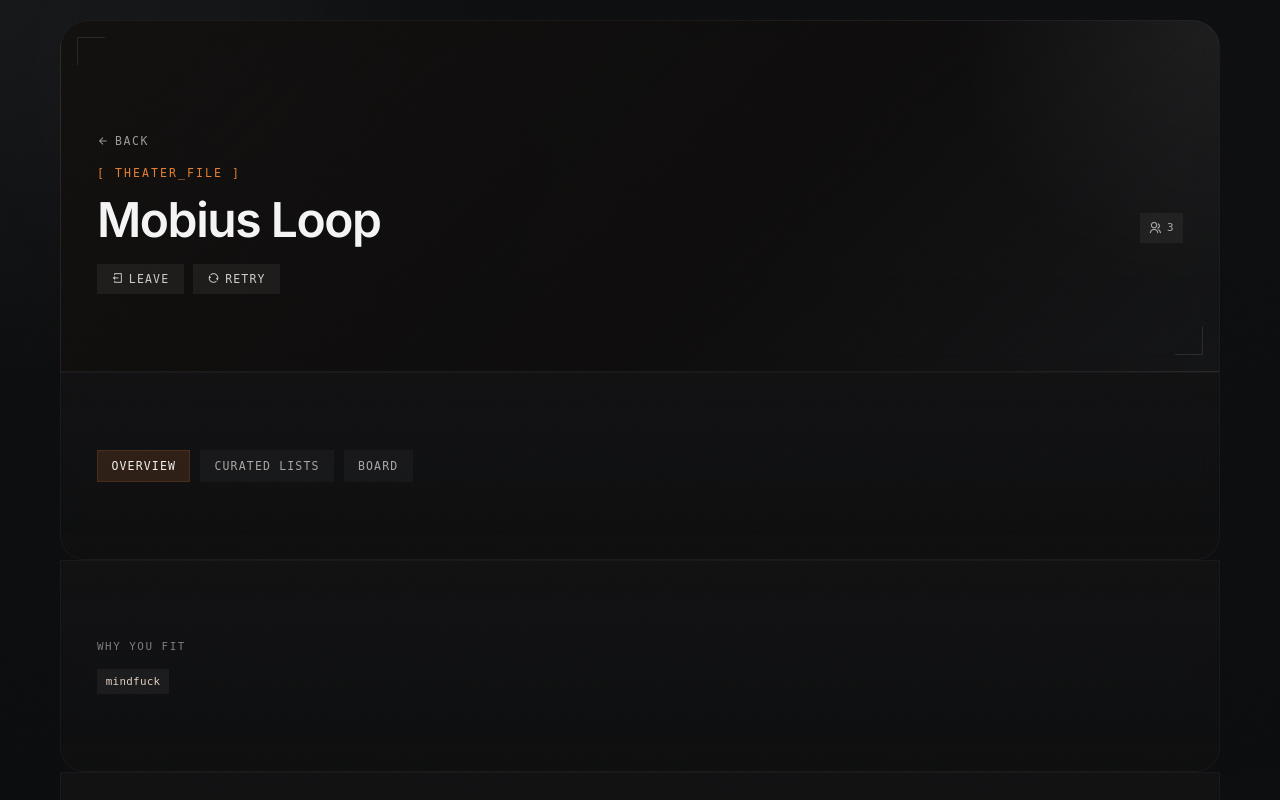
TheaterDetailPage › deletes a list
Click the tab "Curated Lists" at [267, 466], box [200, 450, 334, 482]
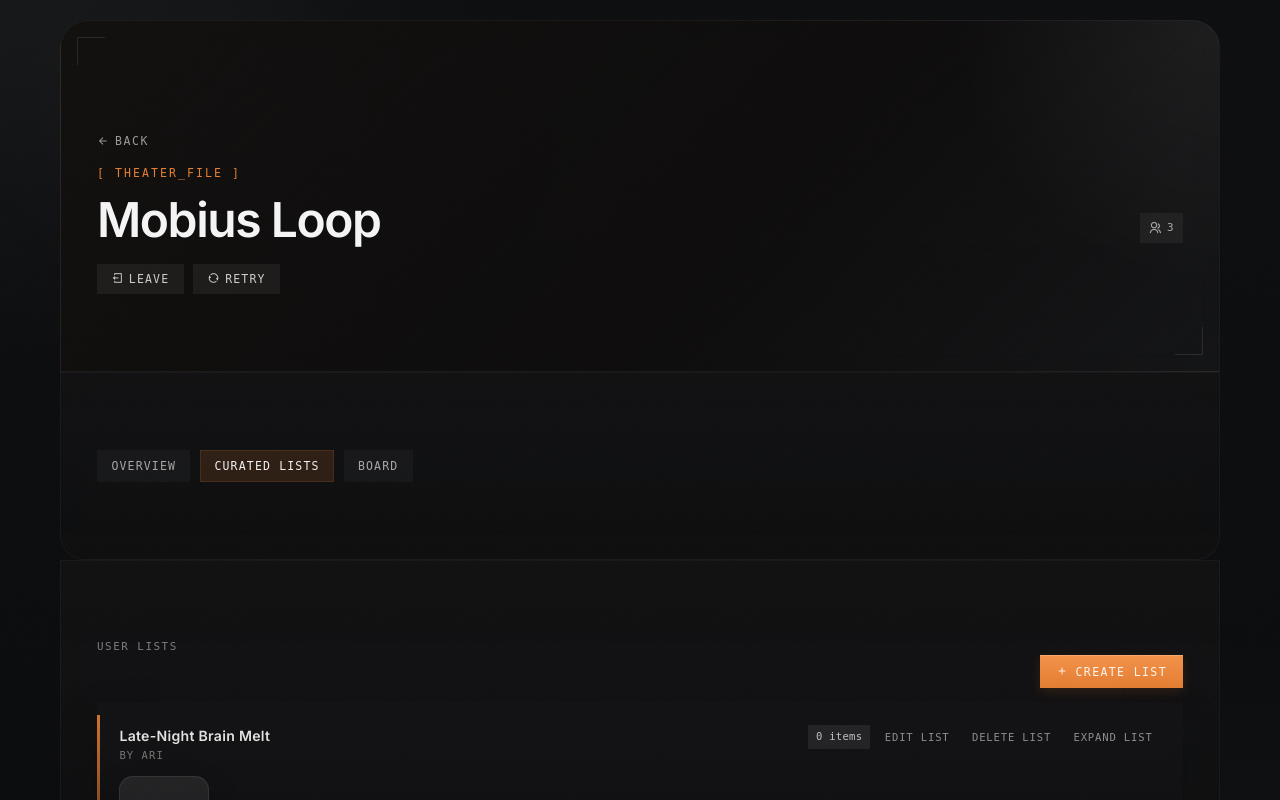
Check: the text "Late-Night Brain Melt" is shown, box [119, 725, 270, 747]
Click the button "Delete List" at [1011, 737], box [964, 726, 1059, 747]
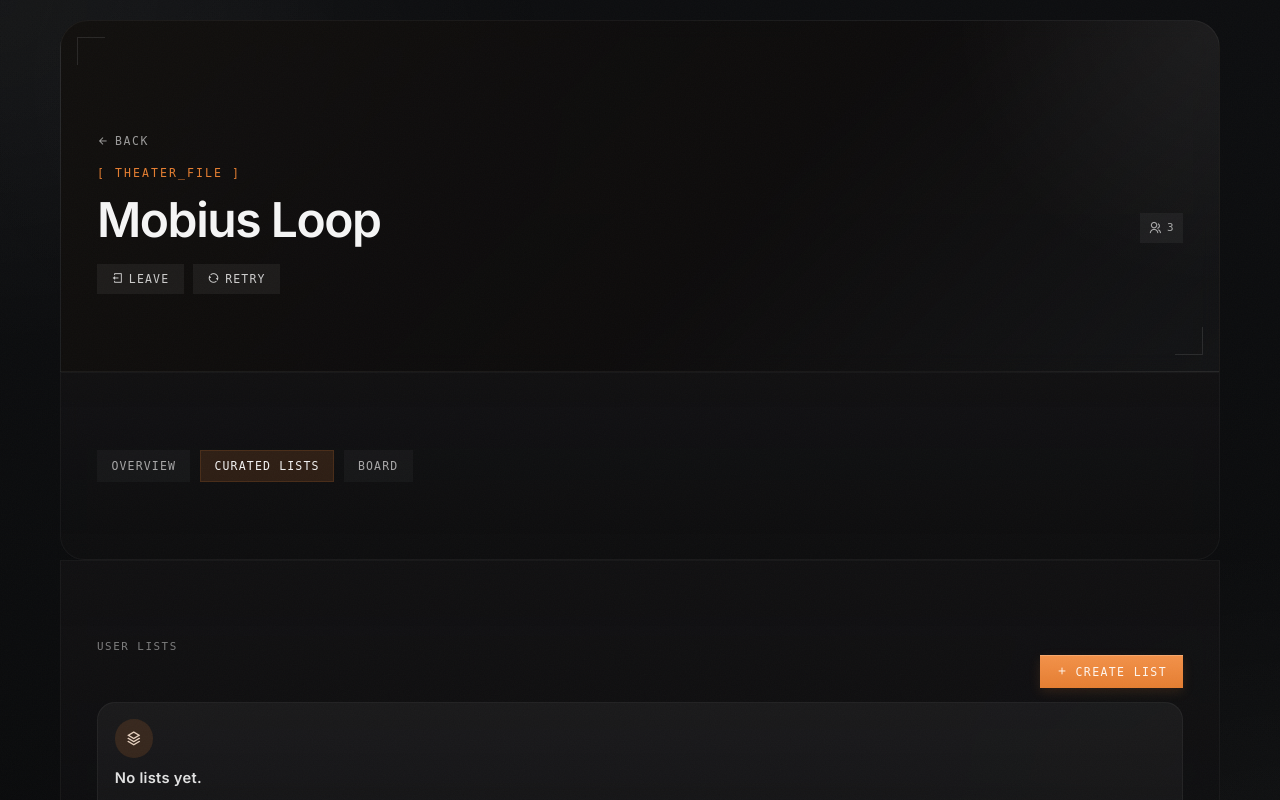
Check: the text "Late-Night Brain Melt" is gone
